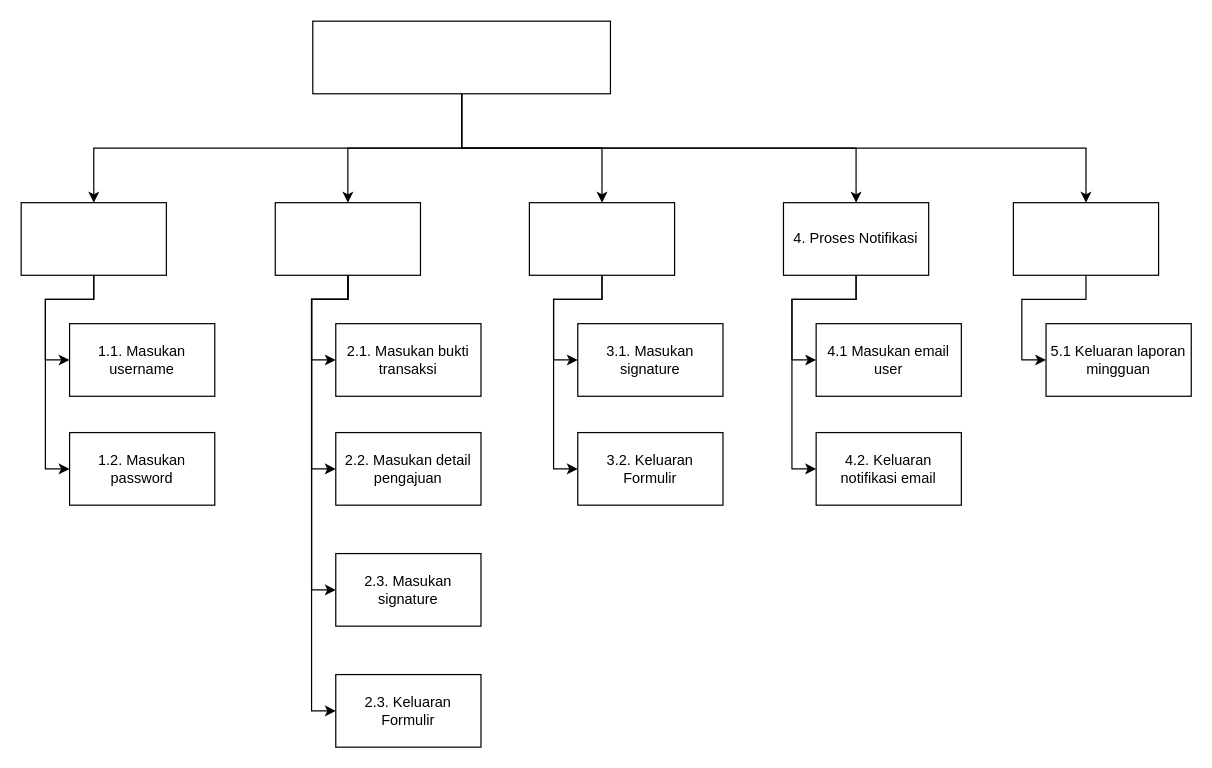
This 1212x768 diagram has some shape labels left out. The centre of each missing label's shape, as x and y in pixels:
"1. Proses Login" goes at pixel 93 238.
"2. Proses Pengajuan" goes at pixel 347 238.
"3. Proses Penyetujuan" goes at pixel 601 238.
"5. Proses Pelaporan" goes at pixel 1085 238.
"Sistem Informasi Reimbursement" goes at pixel 461 57.
